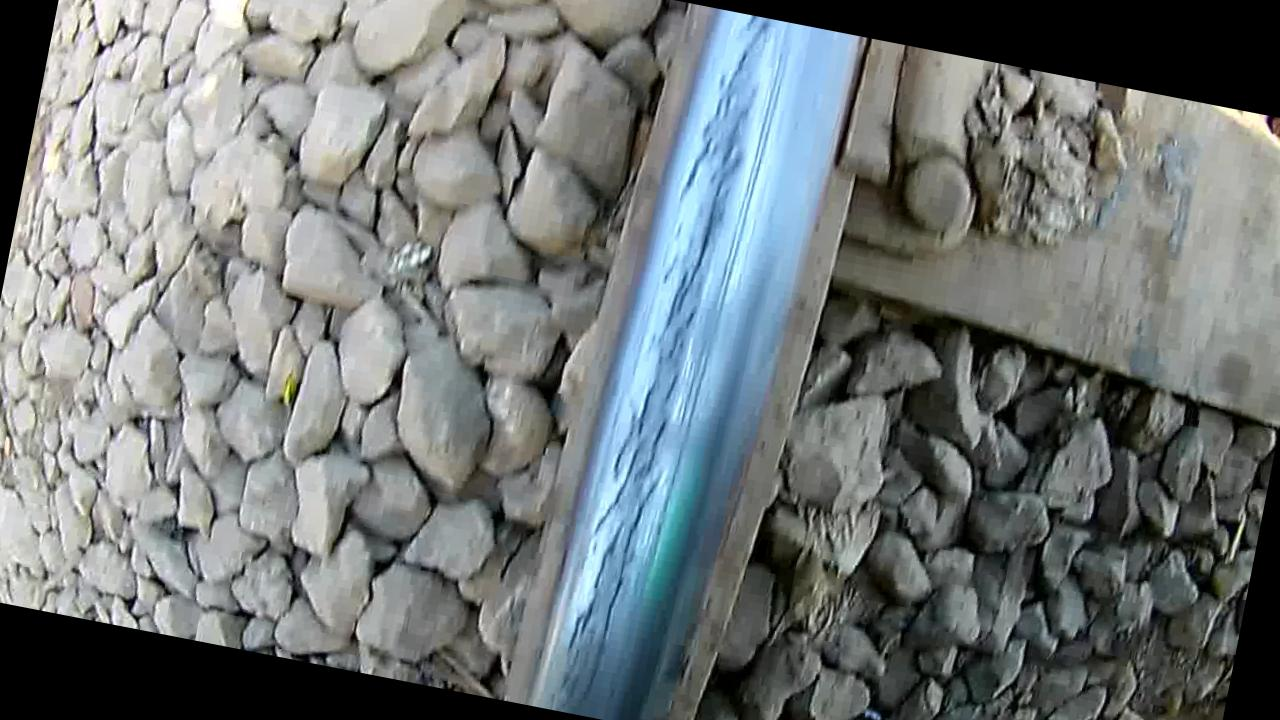normal_track: (550, 2, 781, 720)
